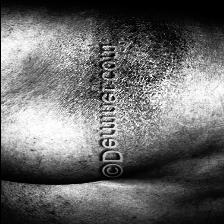Potentially Malignant Skin Tumors: (86, 20, 184, 94)
